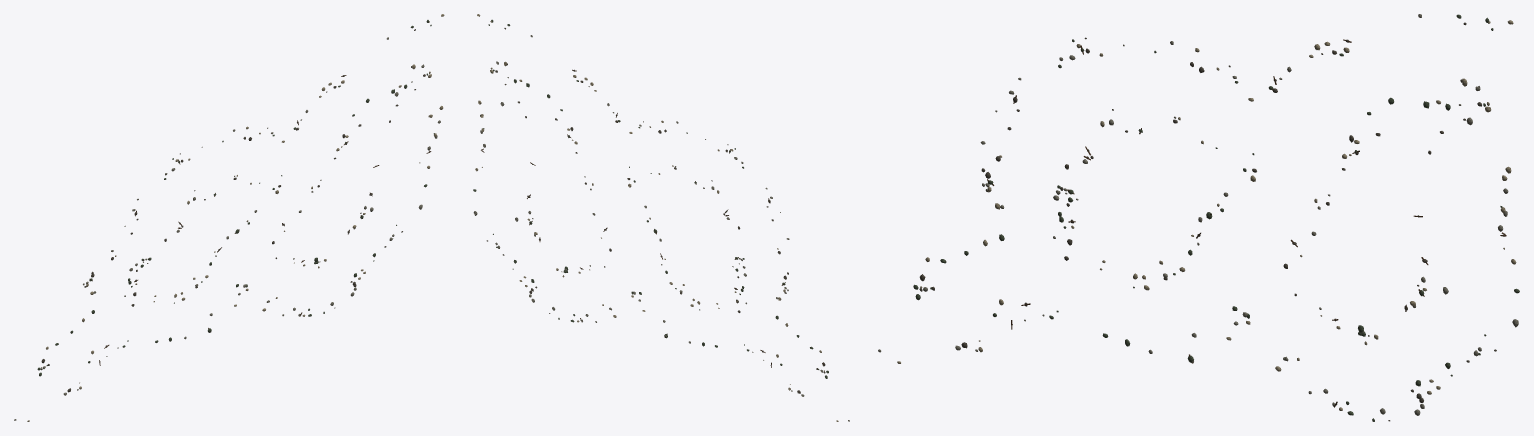
Rendered from roadside_details.obj.
3 renders of one model, left to right at view 1: azimuth 30°, elevation 25°; view 2: azimuth 150°, elevation 25°; view 3: azimuth 330°, elevation 25°, orthographic. The views are drawn at different scales.
Visible parts, largest first — view 1: roadside_details; view 2: roadside_details; view 3: roadside_details.
Part boxes in pixels (x1=…): roadside_details: x1=14, y1=14, x2=444, y2=421; roadside_details: x1=473, y1=14, x2=849, y2=421; roadside_details: x1=878, y1=14, x2=1519, y2=421.
Size of the model in its own units: 55.59 by 41.59 by 4.7.
